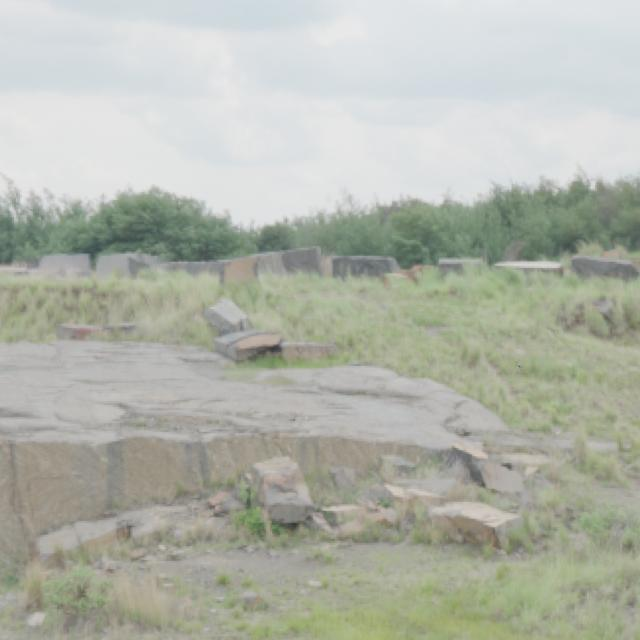Airaplan: (515, 360, 523, 371)
